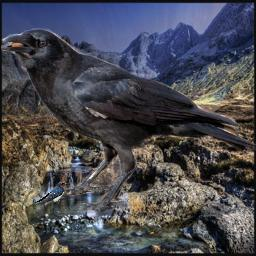Crow: (1, 27, 256, 213)
Swallow: (29, 182, 67, 213)
